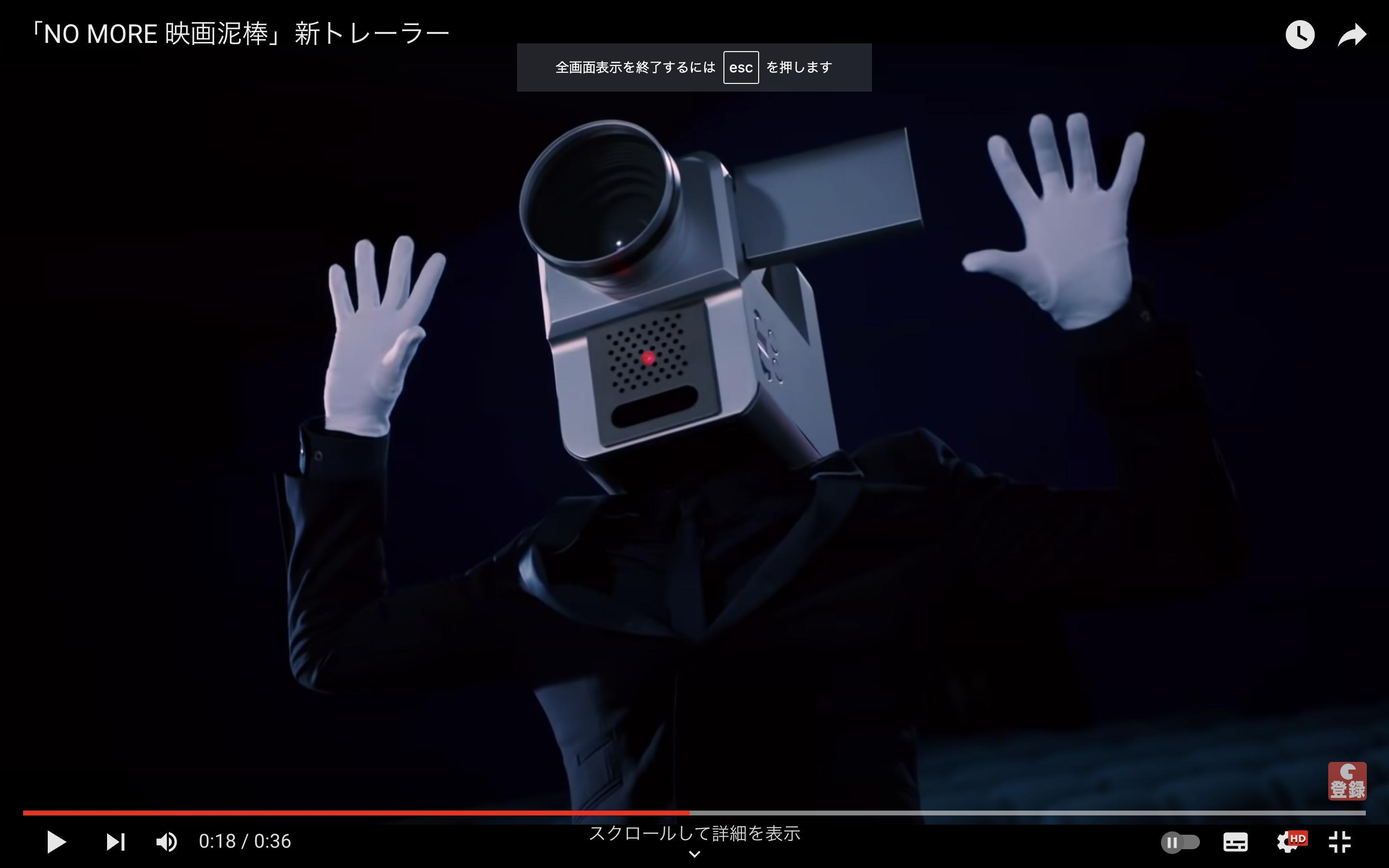no more kid: (516, 120, 931, 503)
